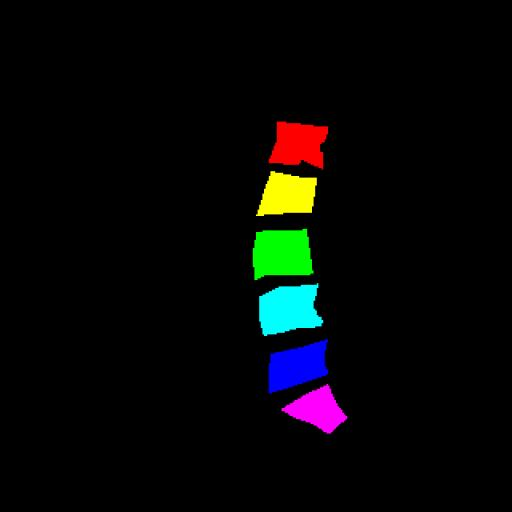L1: (269, 122, 328, 168)
L2: (256, 171, 317, 216)
L3: (256, 229, 313, 280)
L4: (259, 284, 322, 336)
L5: (272, 340, 327, 392)
S1: (282, 384, 347, 434)
